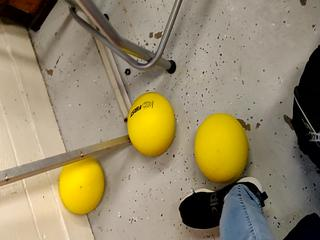power_cell: (192, 110, 249, 181), (55, 151, 106, 215), (123, 93, 173, 157)
